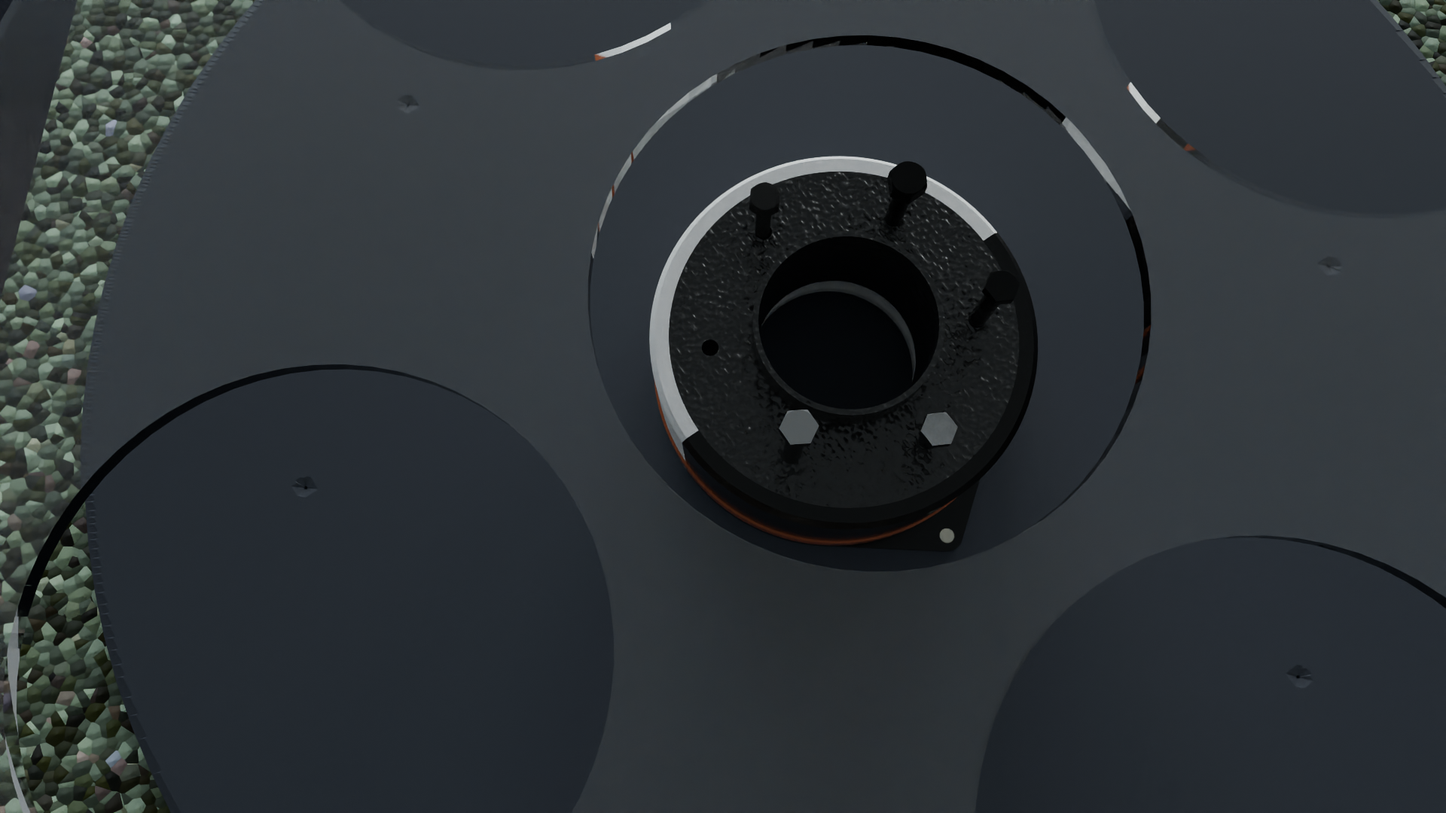bolt: (889, 161, 927, 198), (779, 410, 819, 445), (921, 413, 958, 446), (985, 270, 1020, 301), (749, 182, 780, 213)
